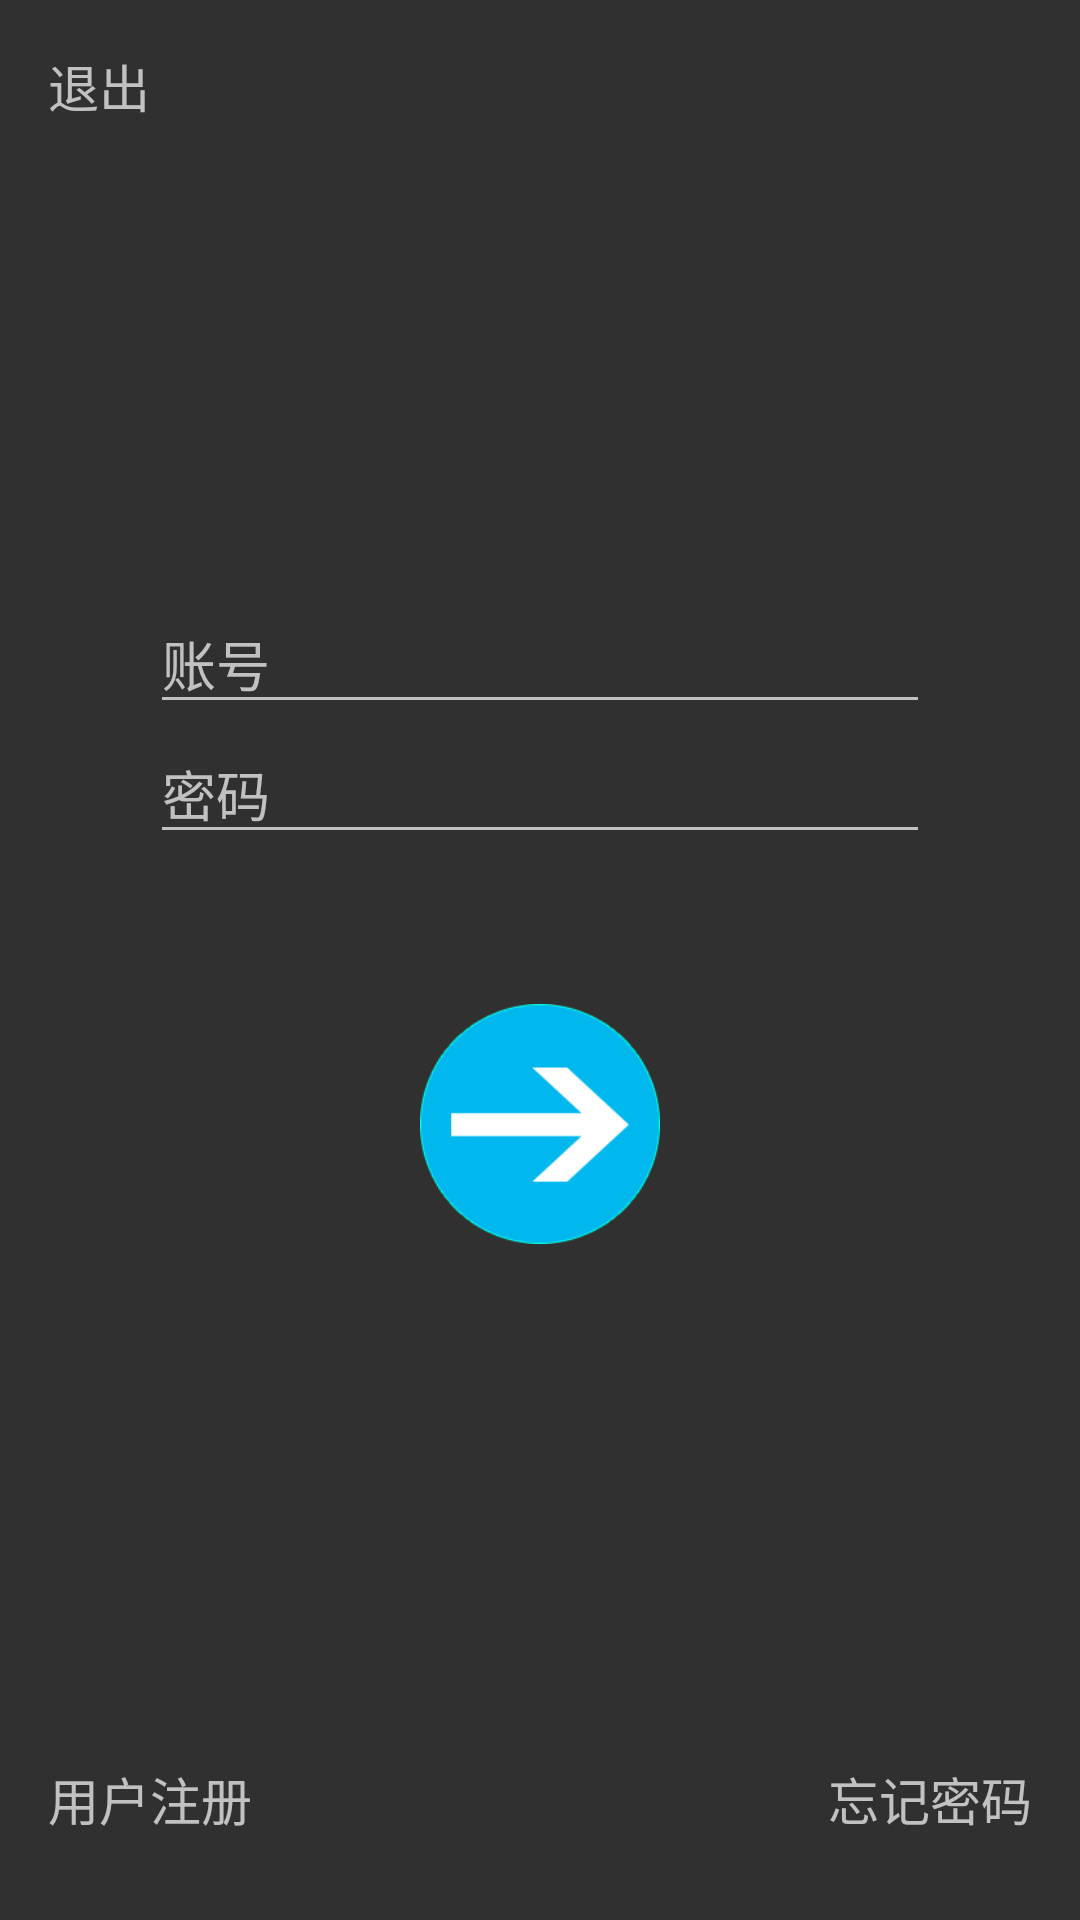

Icon click points for this 1080px x 1920px phone screenshot, format (x,y):
login: (540,1124)
